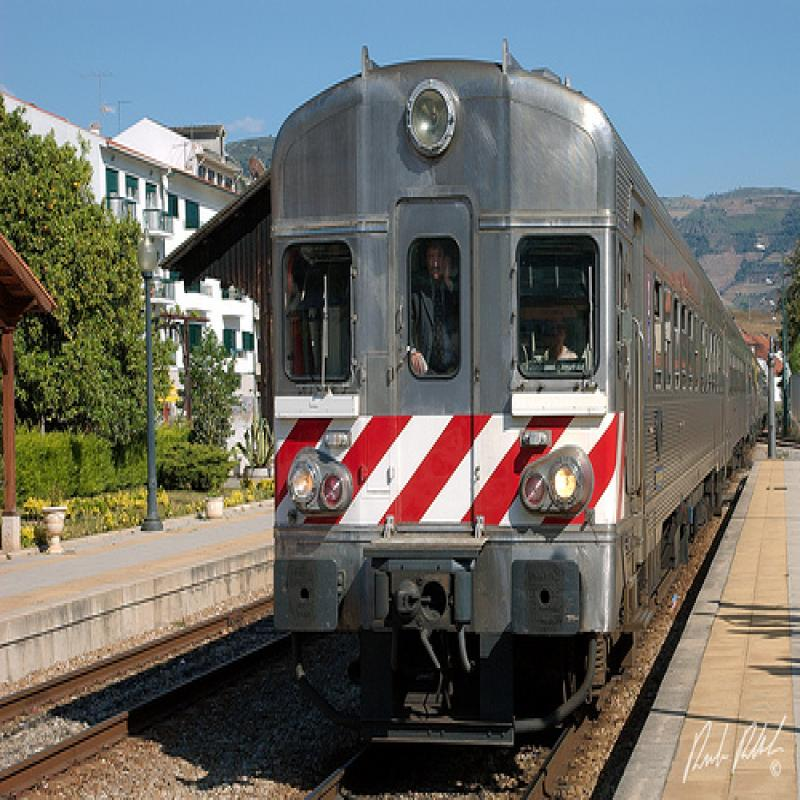train: (270, 52, 774, 751)
